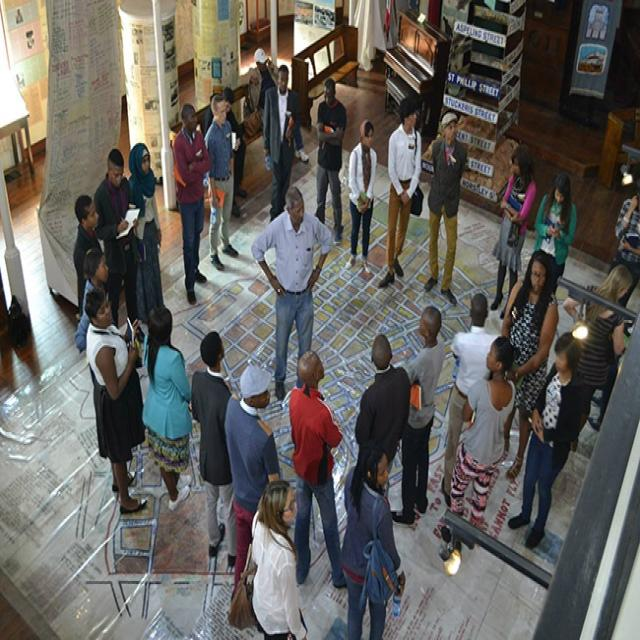body: (506, 327, 595, 553), (437, 335, 518, 565), (251, 184, 335, 401), (286, 346, 356, 593), (82, 283, 148, 516), (496, 248, 561, 482), (222, 362, 282, 614), (561, 263, 636, 454), (337, 438, 408, 638), (440, 291, 504, 508), (389, 304, 446, 526), (189, 329, 237, 571), (242, 475, 309, 638), (141, 305, 193, 513), (374, 94, 426, 292), (352, 332, 412, 498), (168, 97, 213, 307), (422, 110, 468, 306), (236, 47, 311, 165), (489, 142, 538, 322), (92, 146, 140, 329), (202, 92, 240, 274), (127, 142, 165, 323), (202, 86, 249, 218), (262, 62, 300, 223), (313, 76, 348, 245), (342, 118, 379, 277), (533, 171, 579, 295), (72, 192, 109, 317), (605, 190, 640, 311), (73, 242, 110, 352)
